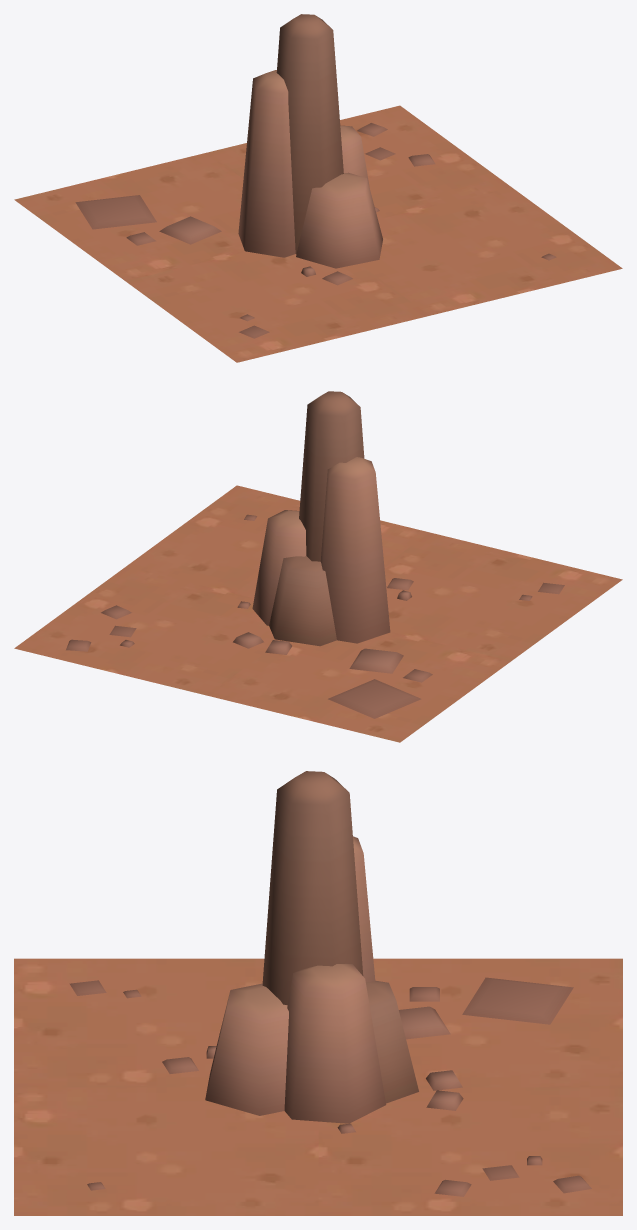
File: kenney-modular-cave-template-floor-big.glb
The picture shows the model from 3 angles, top to bottom: view 1: azimuth 30°, elevation 25°; view 2: azimuth 150°, elevation 25°; view 3: azimuth 270°, elevation 25°; orthographic projection. The views are drawn at different scales.
Parts seen in each view (by area): view 1: template-floor-big; view 2: template-floor-big; view 3: template-floor-big.
Part boxes in pixels (x1,y1,x2,y2): template-floor-big: [14, 14, 622, 362]; template-floor-big: [14, 391, 622, 742]; template-floor-big: [14, 771, 622, 1215].
Size of the model in its own units: 8 by 4.35 by 8.
1 material, 1 textured.
